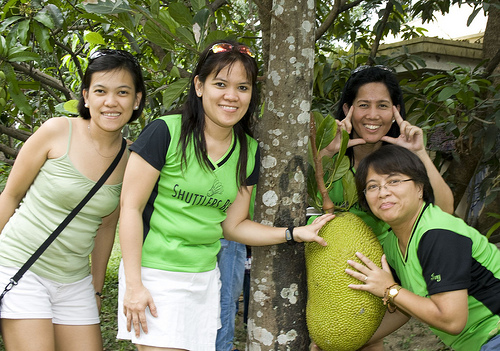jackfruit: (305, 206, 390, 348)
